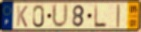0: (32, 4, 46, 28)
8: (72, 4, 85, 28)
I: (115, 3, 121, 29)
K: (16, 4, 29, 28)
L: (94, 4, 108, 29)
U: (51, 3, 70, 30)
